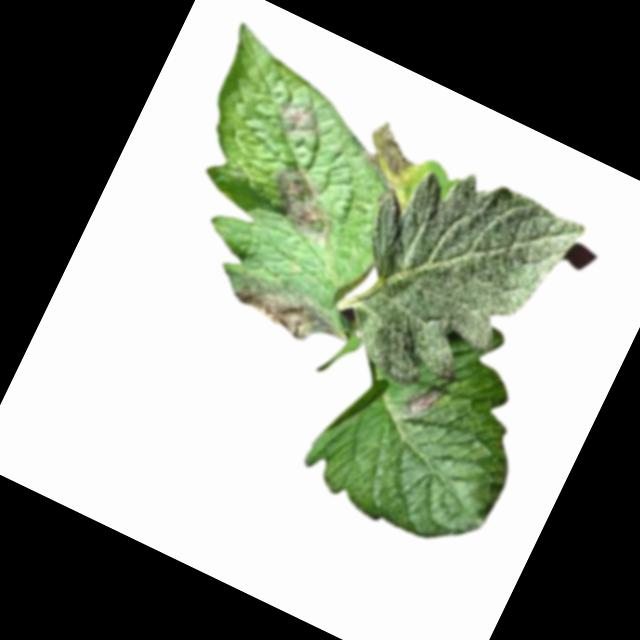Late_blight: (215, 259, 353, 357), (255, 160, 354, 254), (349, 117, 430, 206), (264, 90, 327, 147), (398, 378, 440, 423)
healthy: (308, 136, 587, 426)
